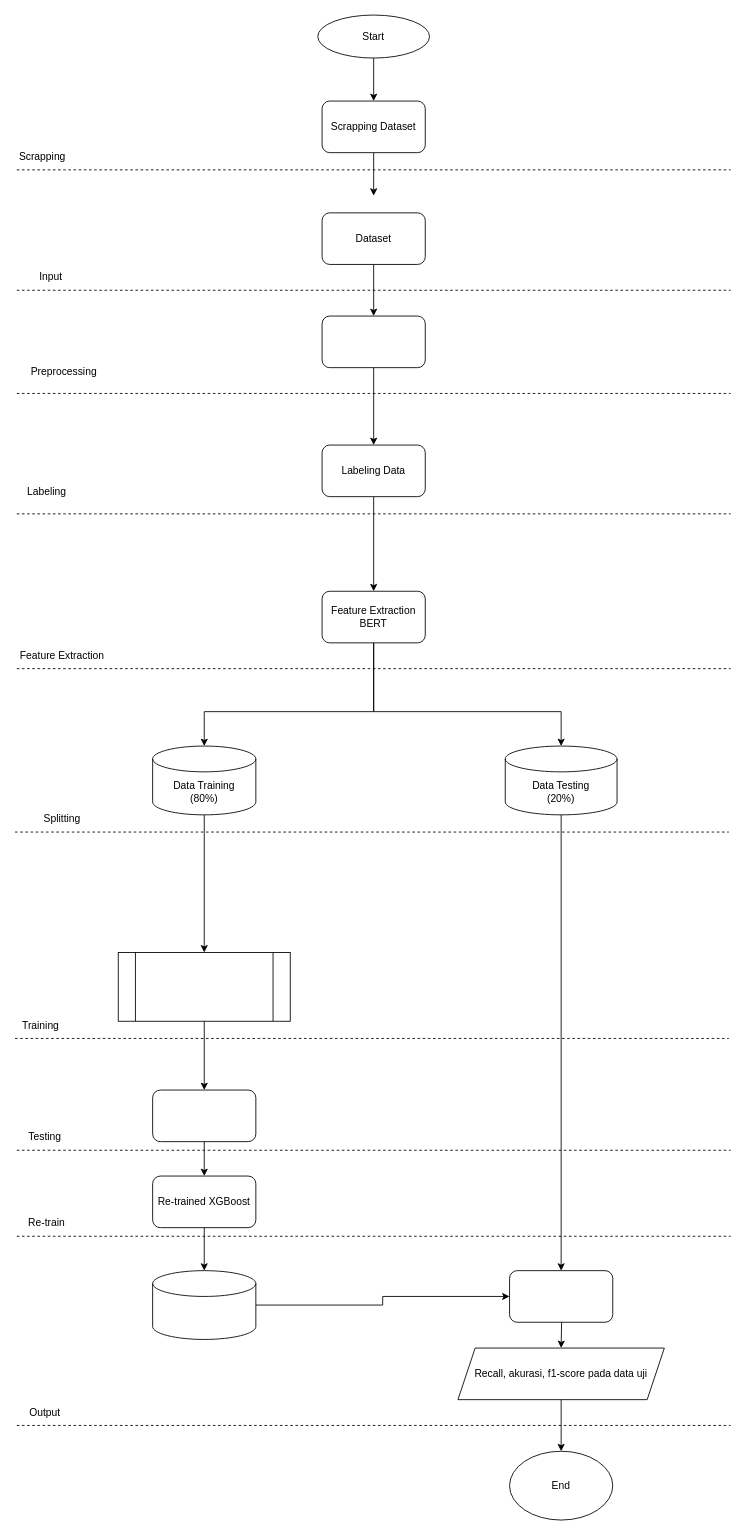
Image size: 746x1535. Some labels were removed from this diagram. The shapes that lost their labels are listed below. From the top down, each one's centre as x and y in pixels, then its label:
(x=373, y=341): Data Preprocessing
(x=203, y=986): Hyperparameter Tuning
(x=204, y=1115): Best Hyperparameter
(x=204, y=1304): Model XGBoost
(x=561, y=1296): Proses testing dengan hyperparameter terbaik
